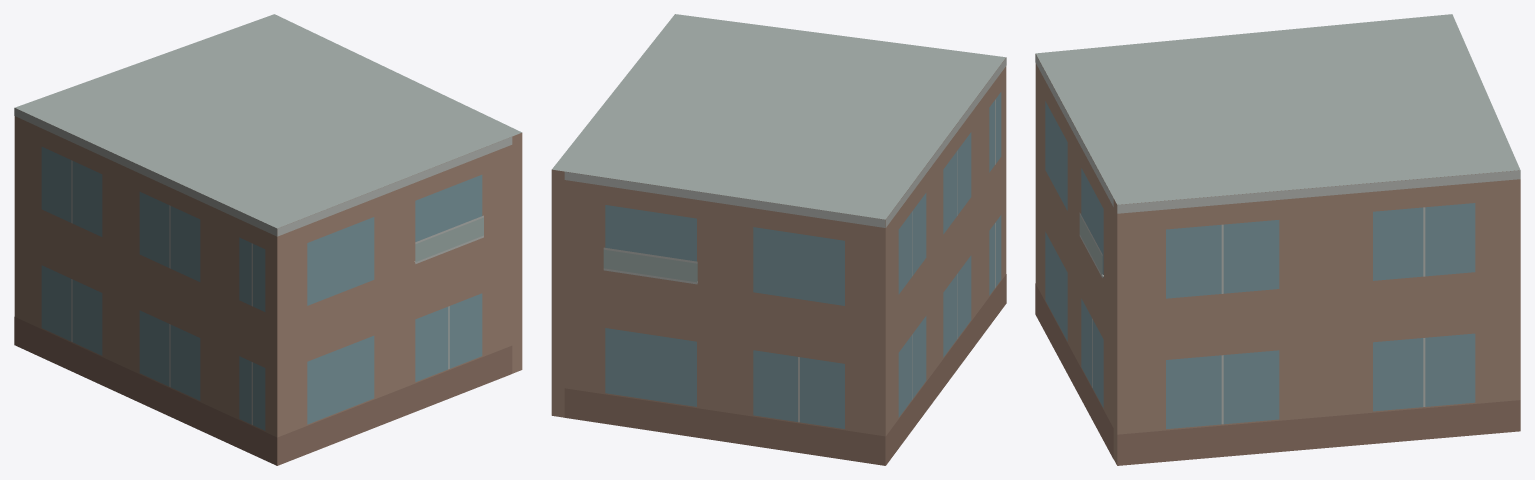
Rendered from survey-upis-32488972.glb.
The picture shows the model from 3 angles, left to right: view 1: azimuth 30°, elevation 25°; view 2: azimuth 150°, elevation 25°; view 3: azimuth 270°, elevation 25°; orthographic projection. The views are drawn at different scales.
Parts seen in each view (by area): view 1: survey-upis-32488972.tmp; view 2: survey-upis-32488972.tmp; view 3: survey-upis-32488972.tmp.
Part boxes in pixels (left/top/right/bottom): survey-upis-32488972.tmp: left=14, top=14, right=522, bottom=465; survey-upis-32488972.tmp: left=551, top=14, right=1006, bottom=465; survey-upis-32488972.tmp: left=1035, top=14, right=1520, bottom=465.
Bounding box in the file's own units: 11.14 × 7.1 × 11.96.
